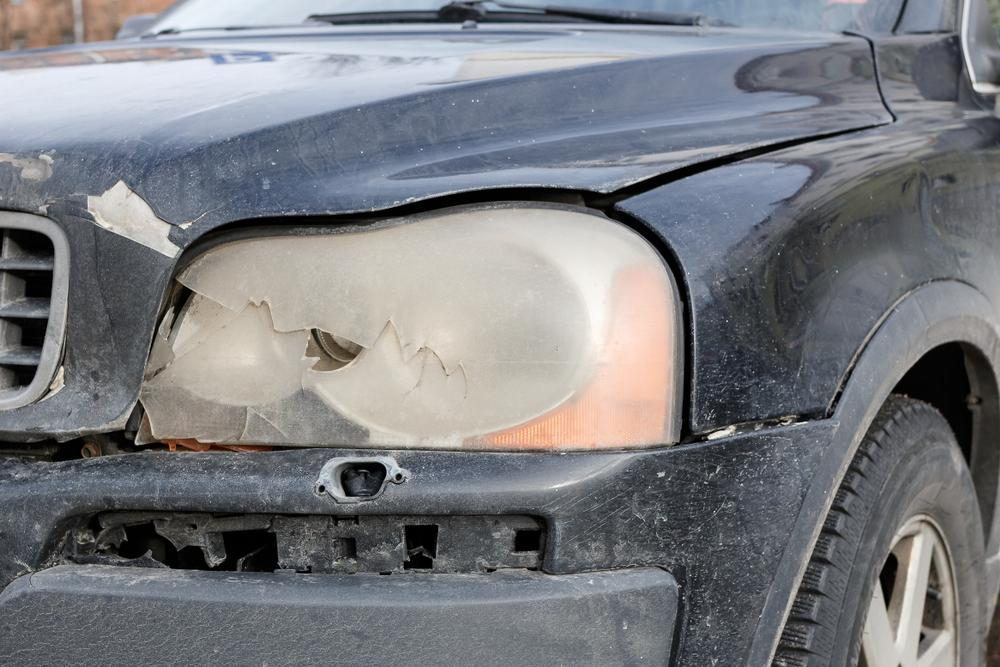lamp broken: (128, 193, 685, 450)
